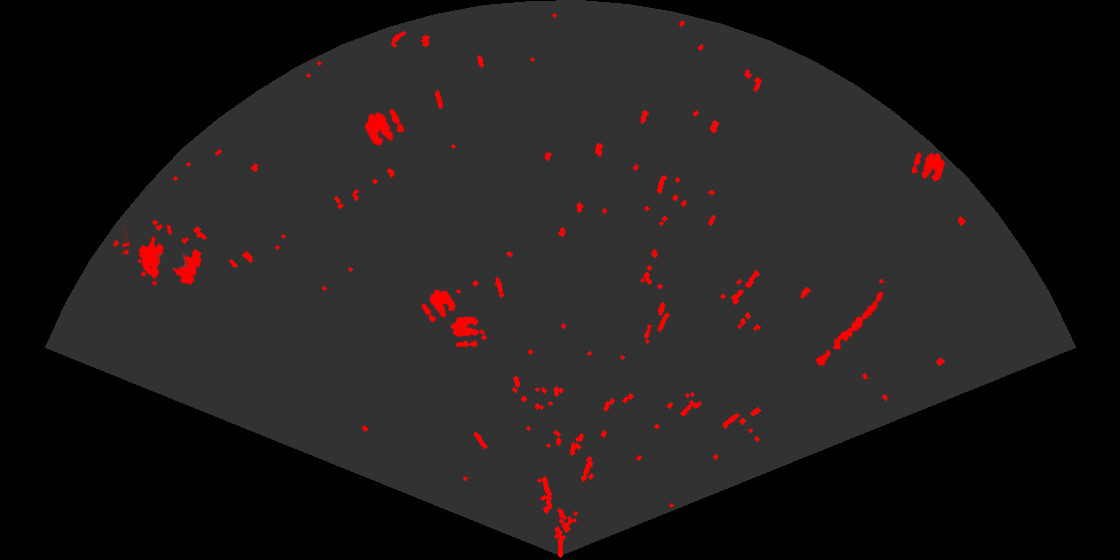ball: (363, 107, 406, 148), (420, 288, 457, 324), (910, 150, 947, 183), (449, 315, 481, 348)
cage: (122, 225, 203, 288)
chain: (814, 290, 885, 367)
